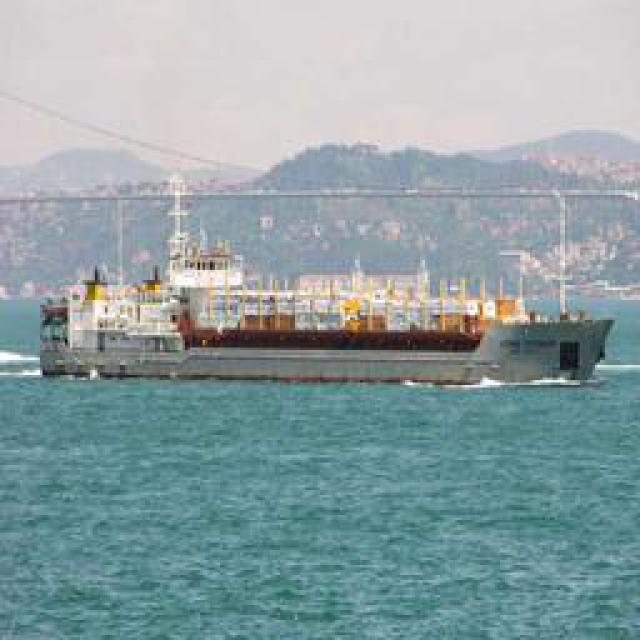Ship: (50, 297, 618, 390)
